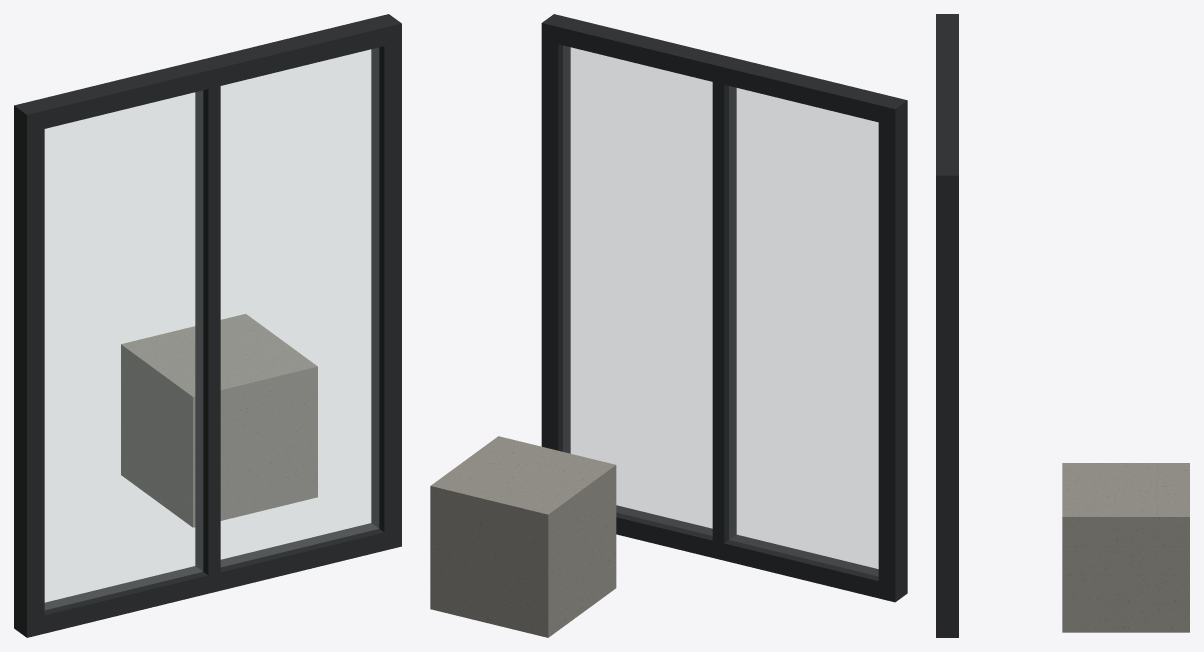
The model's file is kinh.glb.
3 renders of one model, left to right at view 1: azimuth 30°, elevation 25°; view 2: azimuth 150°, elevation 25°; view 3: azimuth 270°, elevation 25°, orthographic. The views are drawn at different scales.
Bounding box in the file's own units: 1.5 × 2 × 0.995.
3 materials, 1 textured.
